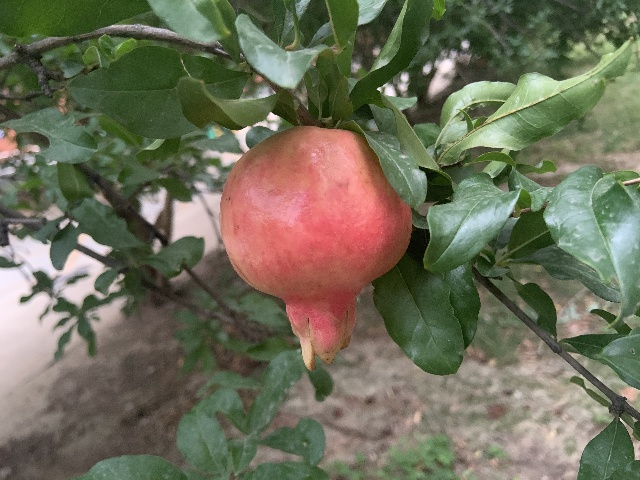ripe: (219, 125, 412, 372)
